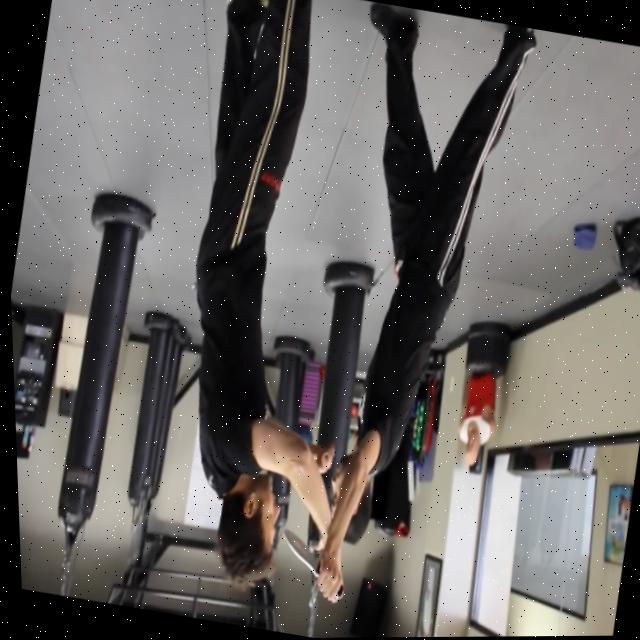knife: (273, 528, 319, 574)
